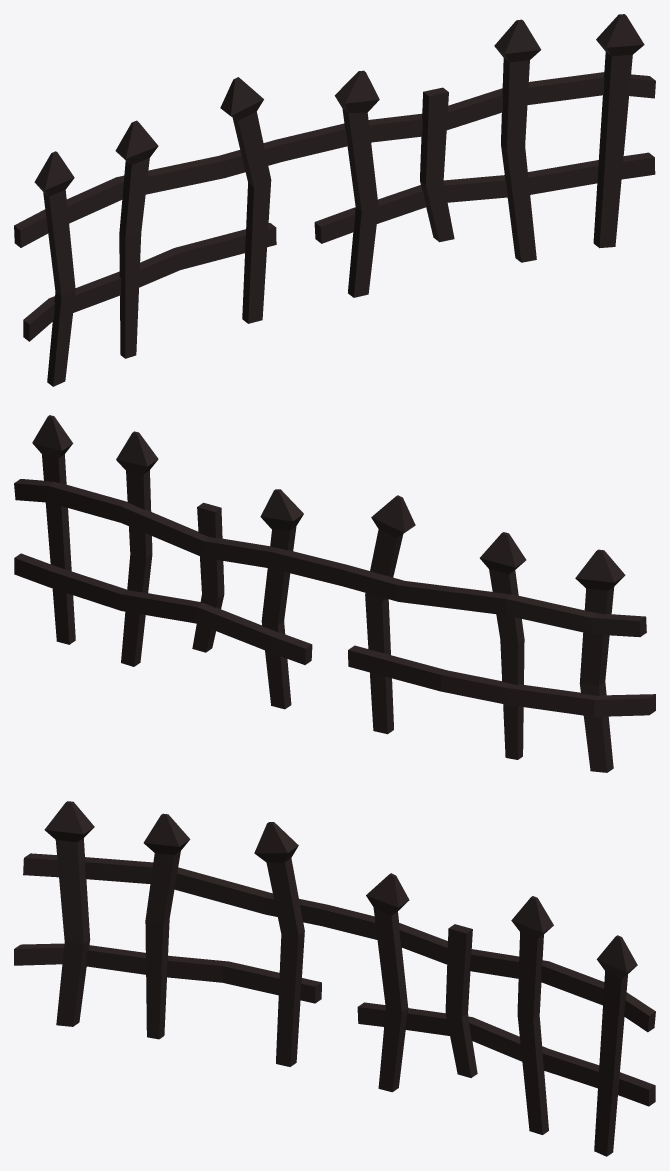
The model's file is fenceC3.glb.
3 views of the same model, one above another, from view 1: azimuth 30°, elevation 25°; view 2: azimuth 150°, elevation 25°; view 3: azimuth 330°, elevation 25° (orthographic). The views are drawn at different scales.
Visible parts, largest first — view 1: fenceC3; view 2: fenceC3; view 3: fenceC3.
Boxes of the visible parts, x1,y1,x2,y2 form: fenceC3: [14, 14, 655, 386]; fenceC3: [14, 415, 655, 772]; fenceC3: [14, 801, 655, 1156].
Bounding box in the file's own units: 2.73 × 0.9996 × 0.2866.
Materials: 1 (1 with a texture image).
